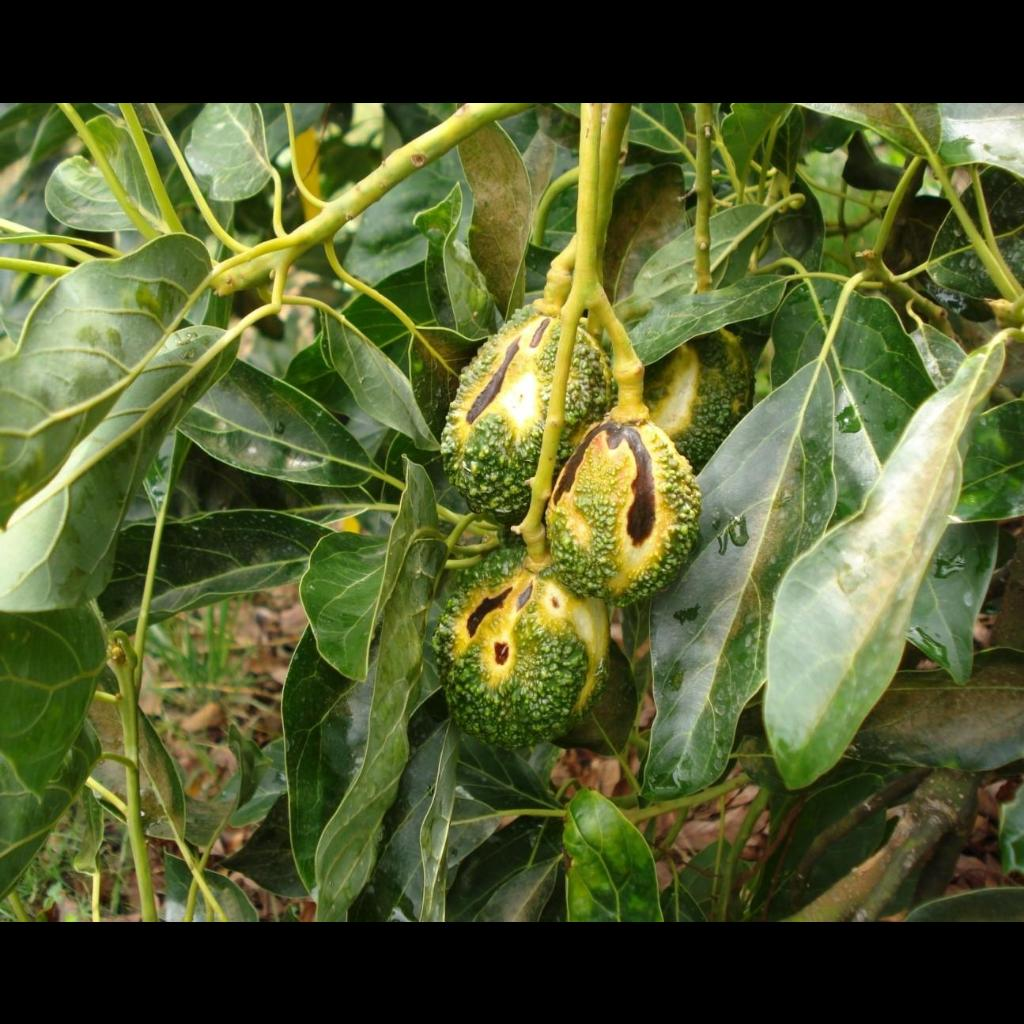Anthracnose: (296, 304, 744, 724)
